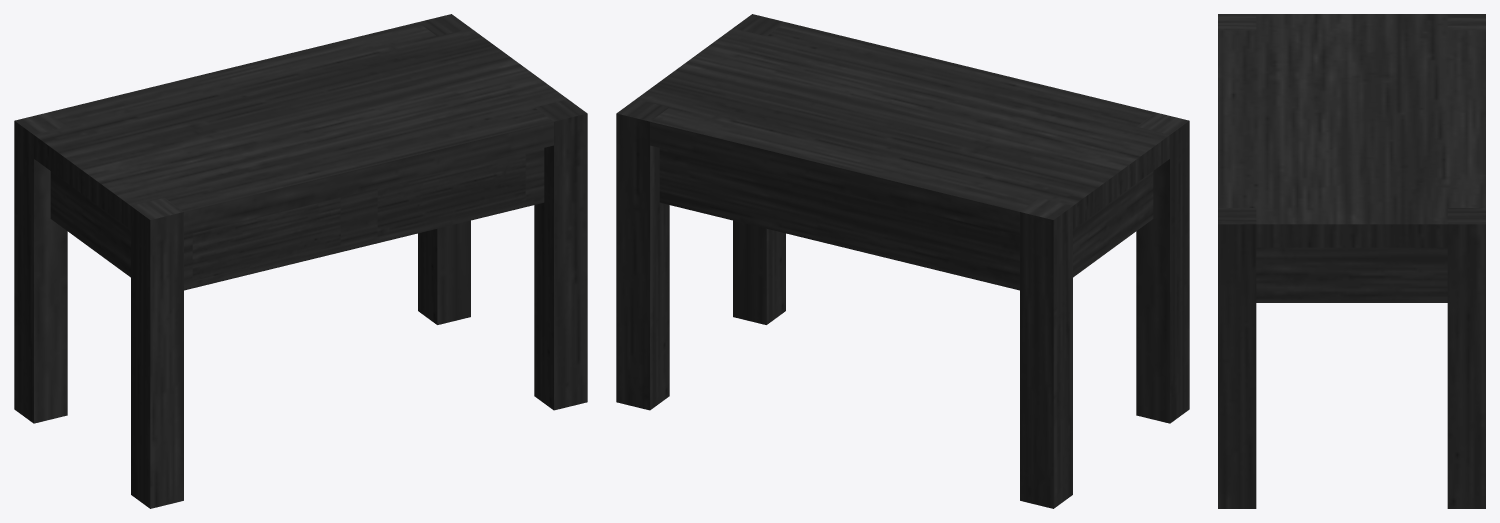
File: TableBETA.fbx
3 views of the same model, side by side, from view 1: azimuth 30°, elevation 25°; view 2: azimuth 150°, elevation 25°; view 3: azimuth 270°, elevation 25° (orthographic).
Visible parts, largest first — view 1: Cube.001, Cube.004; view 2: Cube.001; view 3: Cube.001.
Boxes of the visible parts, x1,y1,x2,y2 form: Cube.001: [14, 14, 587, 508]; Cube.004: [192, 152, 525, 281]; Cube.001: [616, 14, 1189, 508]; Cube.001: [1218, 14, 1485, 508].
Size of the model in its own units: 217 by 137 by 117.
